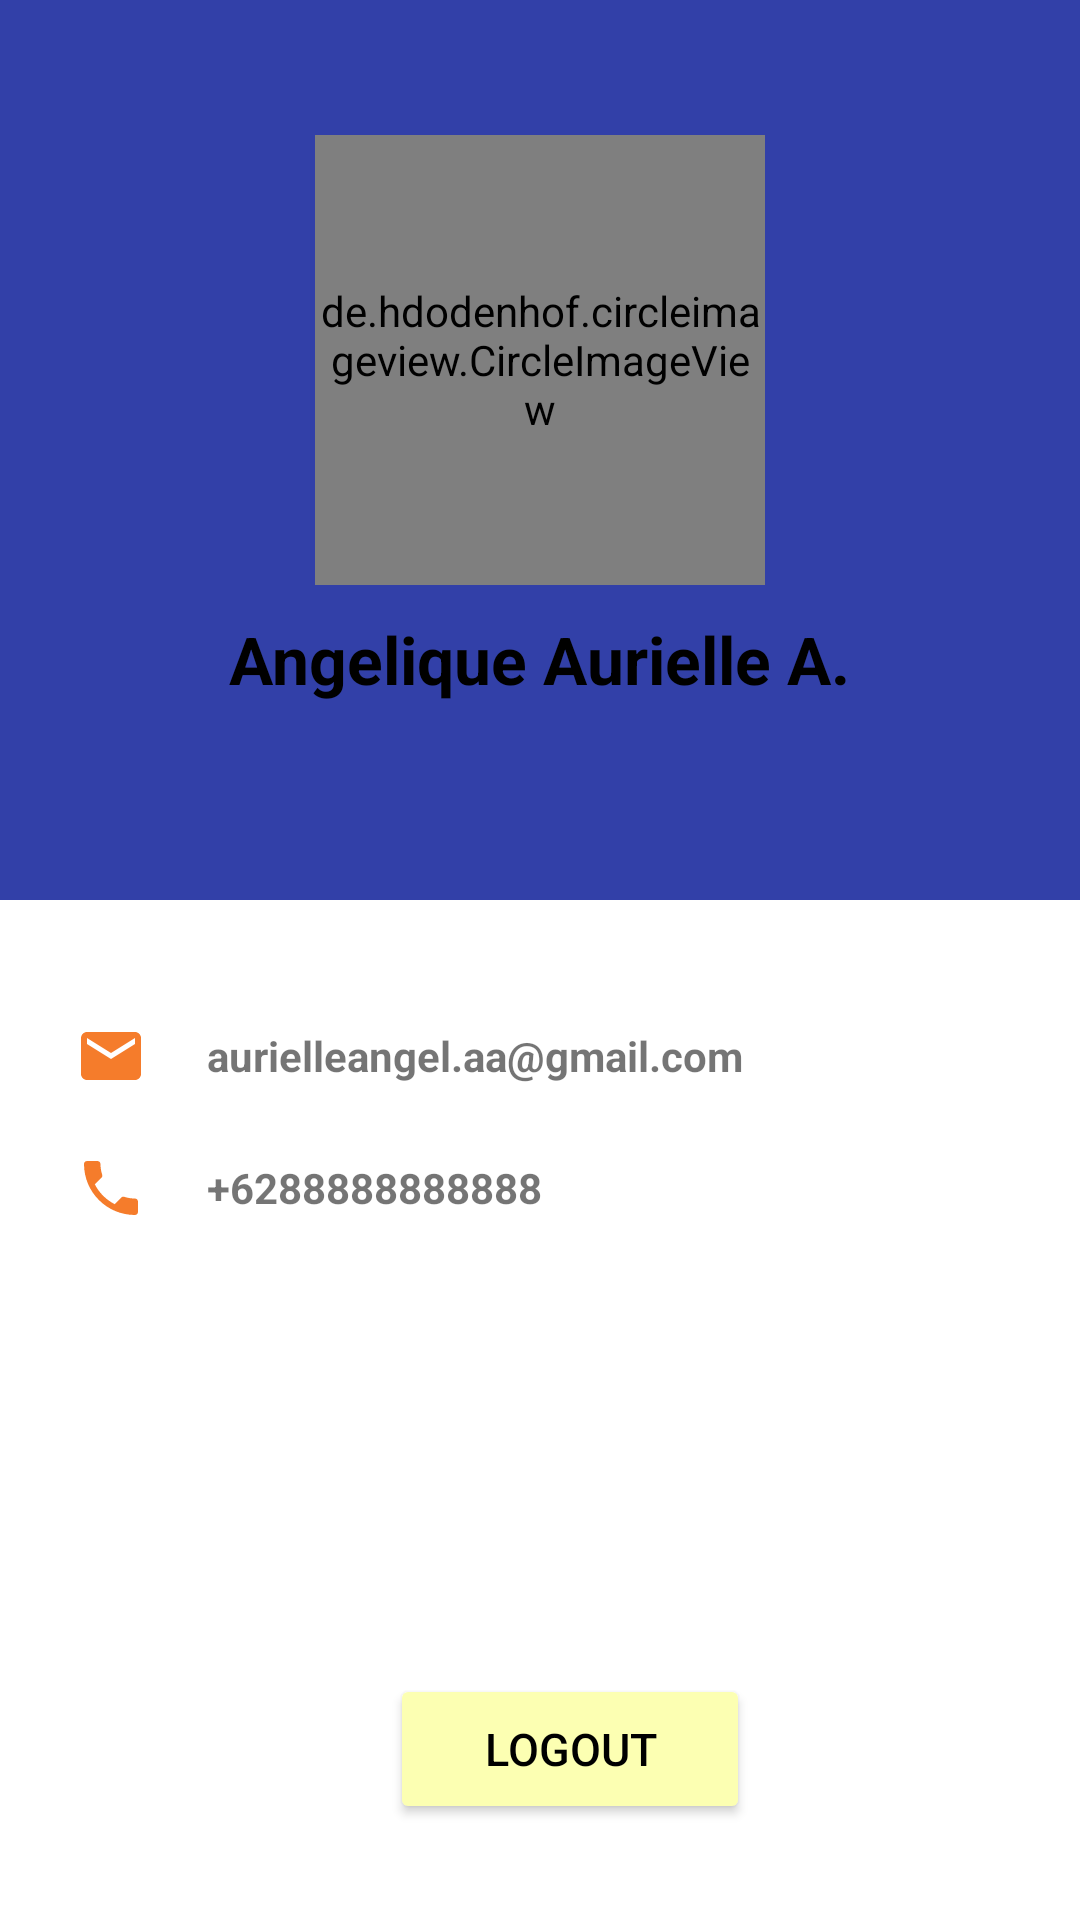

Point at icon controls on the screen. Image size 1080x1920, points as [x,y].
email: [111,1056]
phone: [111,1188]
